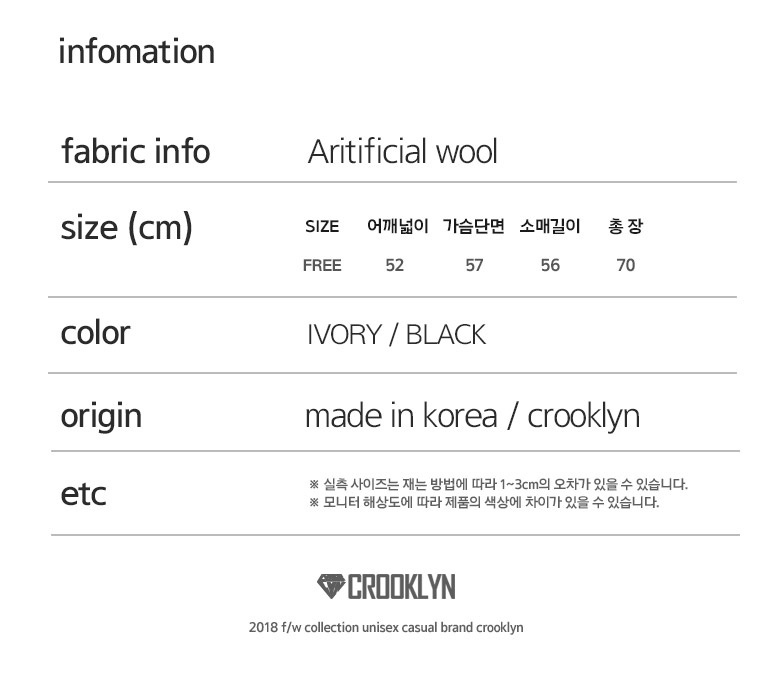table: (53, 182, 741, 294)
